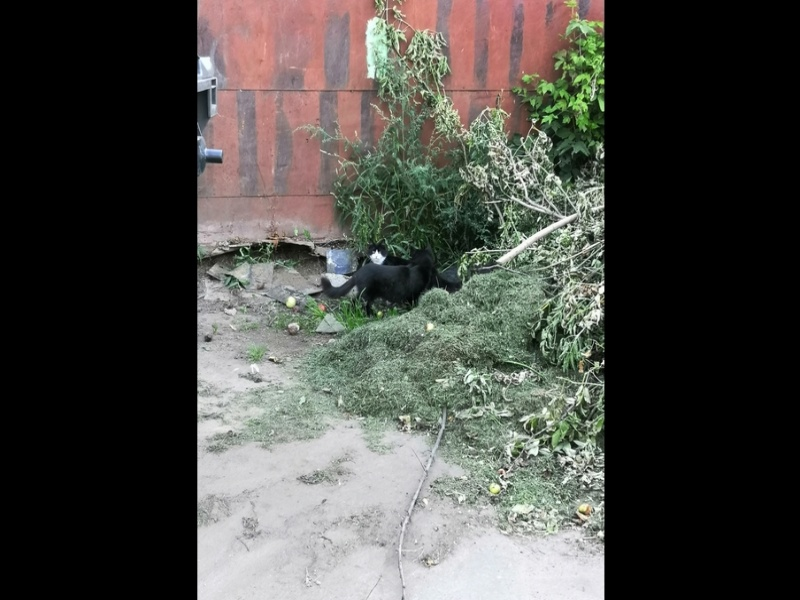cat: (317, 244, 446, 316)
